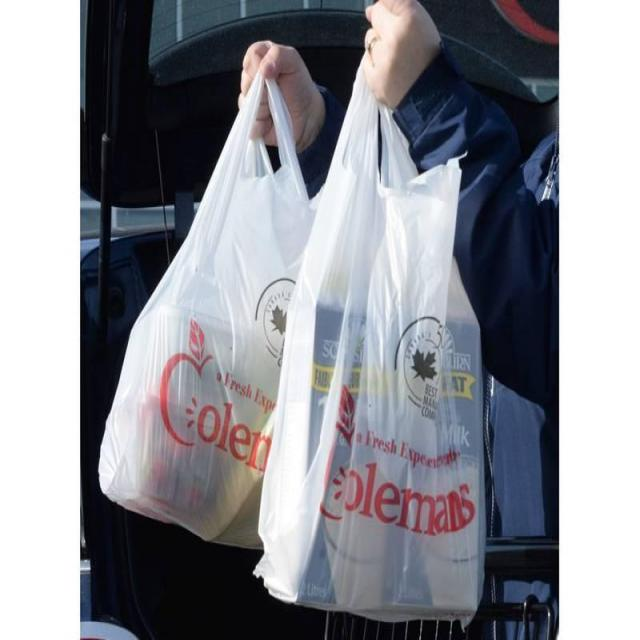plastic_bag: (95, 46, 494, 632), (254, 46, 499, 637), (95, 57, 320, 556)
